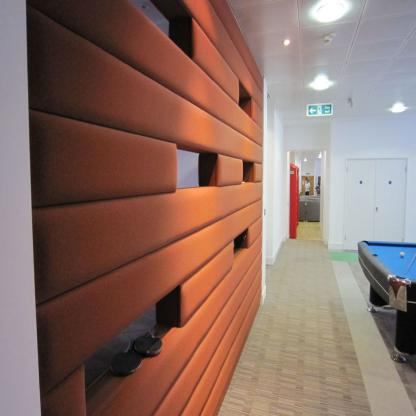Ball: (400, 250, 404, 258)
